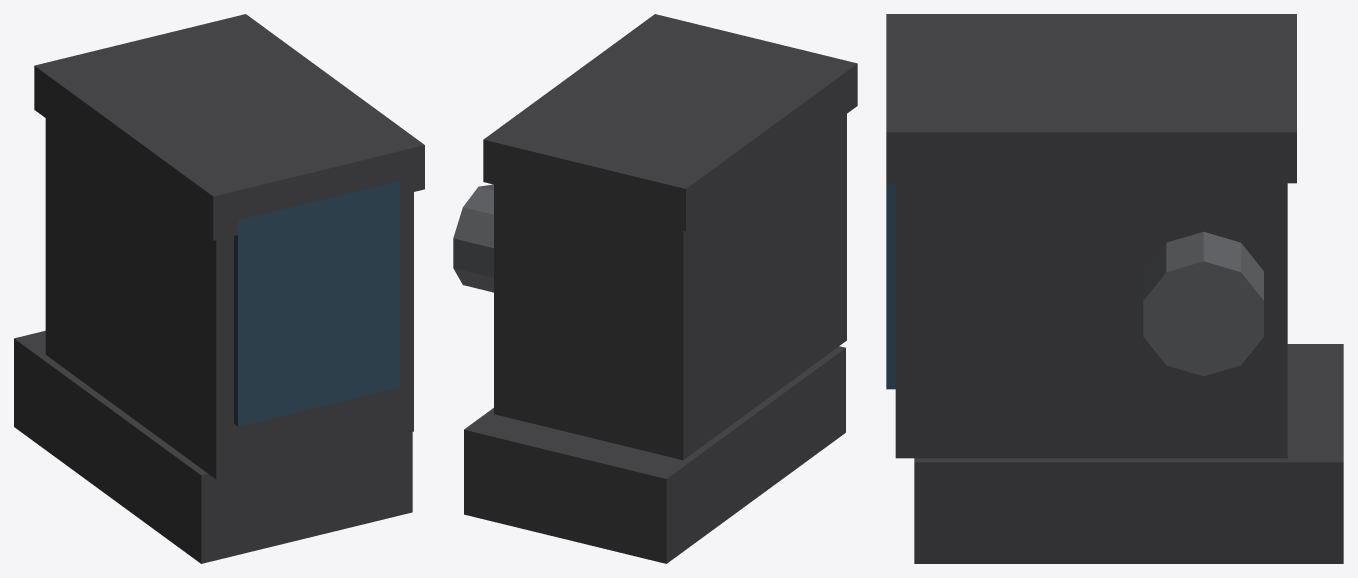
File: optic_reddot.glb
The picture shows the model from 3 angles, left to right: view 1: azimuth 30°, elevation 25°; view 2: azimuth 150°, elevation 25°; view 3: azimuth 270°, elevation 25°; orthographic projection. The views are drawn at different scales.
Parts seen in each view (by area): view 1: rd_body, rd_hood, rd_clamp, rd_lens; view 2: rd_body, rd_hood, rd_clamp, rd_turret; view 3: rd_body, rd_hood, rd_clamp, rd_turret, rd_lens.
Part boxes in pixels (x1,y1,x2,y2): rd_body: (45, 118, 413, 479); rd_hood: (34, 14, 424, 240); rd_clamp: (14, 330, 412, 563); rd_lens: (234, 180, 400, 426); rd_body: (494, 114, 846, 460); rd_hood: (483, 14, 857, 231); rd_clamp: (464, 346, 845, 563); rd_turret: (453, 184, 493, 292); rd_body: (895, 183, 1287, 458); rd_hood: (886, 14, 1296, 183); rd_clamp: (914, 344, 1343, 563); rd_turret: (1143, 231, 1263, 376); rd_lens: (886, 183, 895, 389).
Size of the model in its own units: 0.0365 by 0.051 by 0.049.
